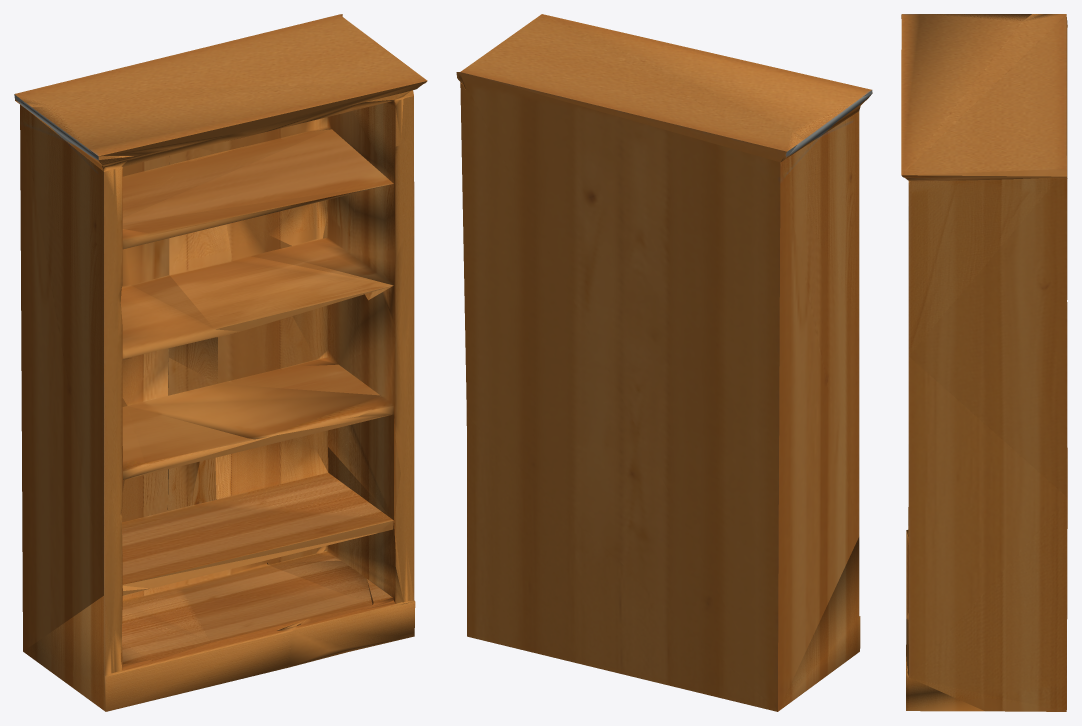
The model's file is Bookshelf.fbx.
The picture shows the model from 3 angles, left to right: view 1: azimuth 30°, elevation 25°; view 2: azimuth 150°, elevation 25°; view 3: azimuth 270°, elevation 25°; orthographic projection. The views are drawn at different scales.
Visible parts, largest first — view 1: Mesh_0; view 2: Mesh_0; view 3: Mesh_0.
Boxes of the visible parts, x1,y1,x2,y2 form: Mesh_0: (14, 14, 427, 711); Mesh_0: (456, 14, 872, 711); Mesh_0: (901, 14, 1067, 711).
Size of the model in its own units: 117 by 190 by 52.47.
1 material, 1 textured.
